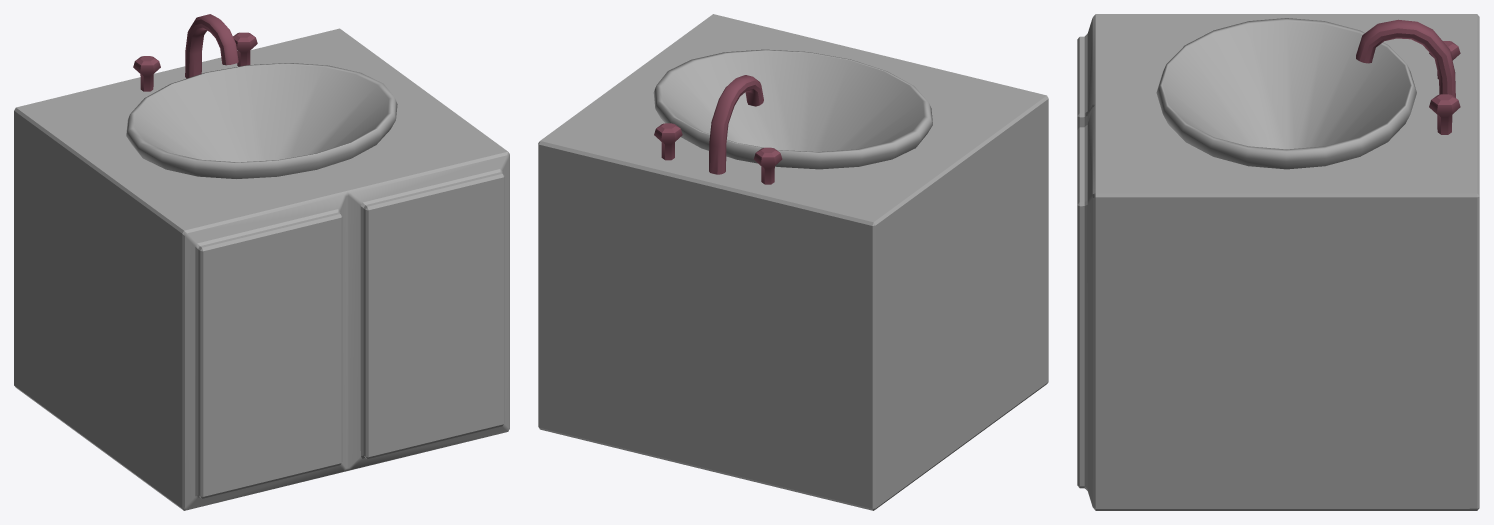
Rendered from handfat3.fbx.
3 views of the same model, side by side, from view 1: azimuth 30°, elevation 25°; view 2: azimuth 150°, elevation 25°; view 3: azimuth 270°, elevation 25° (orthographic). The views are drawn at different scales.
Parts seen in each view (by area): view 1: pCube6, pCylinder8, pSphere6; view 2: pCube6, pCylinder8, pSphere6; view 3: pCube6, pCylinder8, pSphere6.
Part boxes in pixels (x1,y1,x2,y2): pCube6: [14, 28, 509, 510]; pCylinder8: [185, 14, 238, 78]; pSphere6: [133, 32, 257, 91]; pCube6: [538, 14, 1048, 510]; pCylinder8: [709, 75, 763, 174]; pSphere6: [654, 123, 782, 184]; pCube6: [1077, 14, 1479, 510]; pCylinder8: [1356, 19, 1455, 97]; pSphere6: [1429, 41, 1460, 134].
Size of the model in its own units: 1.43 by 1.47 by 1.34.
